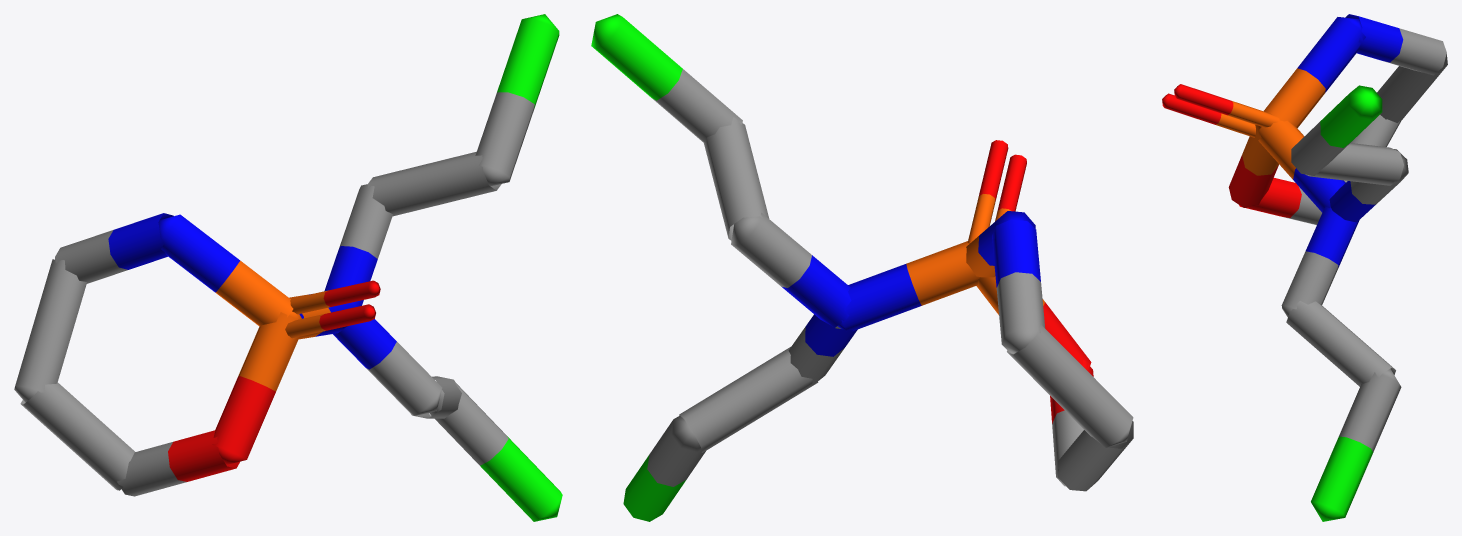
Rendered from cycloph.glb.
3 renders of one model, left to right at view 1: azimuth 30°, elevation 25°; view 2: azimuth 150°, elevation 25°; view 3: azimuth 270°, elevation 25°, orthographic. The views are drawn at different scales.
Visible parts, largest first — view 1: node-geom2; view 2: node-geom2; view 3: node-geom2.
Part boxes in pixels (left/top/right/bottom): node-geom2: left=14, top=14, right=562, bottom=521; node-geom2: left=591, top=14, right=1133, bottom=521; node-geom2: left=1162, top=14, right=1447, bottom=521.
Size of the model in its own units: 7.1 by 6.27 by 3.71.
